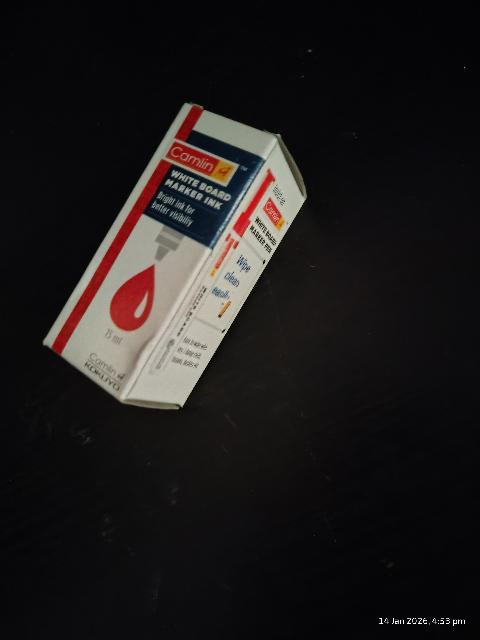camlin marker ink: (76, 134, 288, 388)
